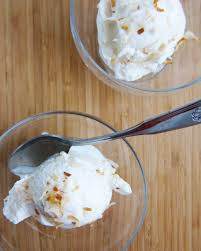ice-cream: (6, 145, 116, 228), (95, 1, 182, 76)
